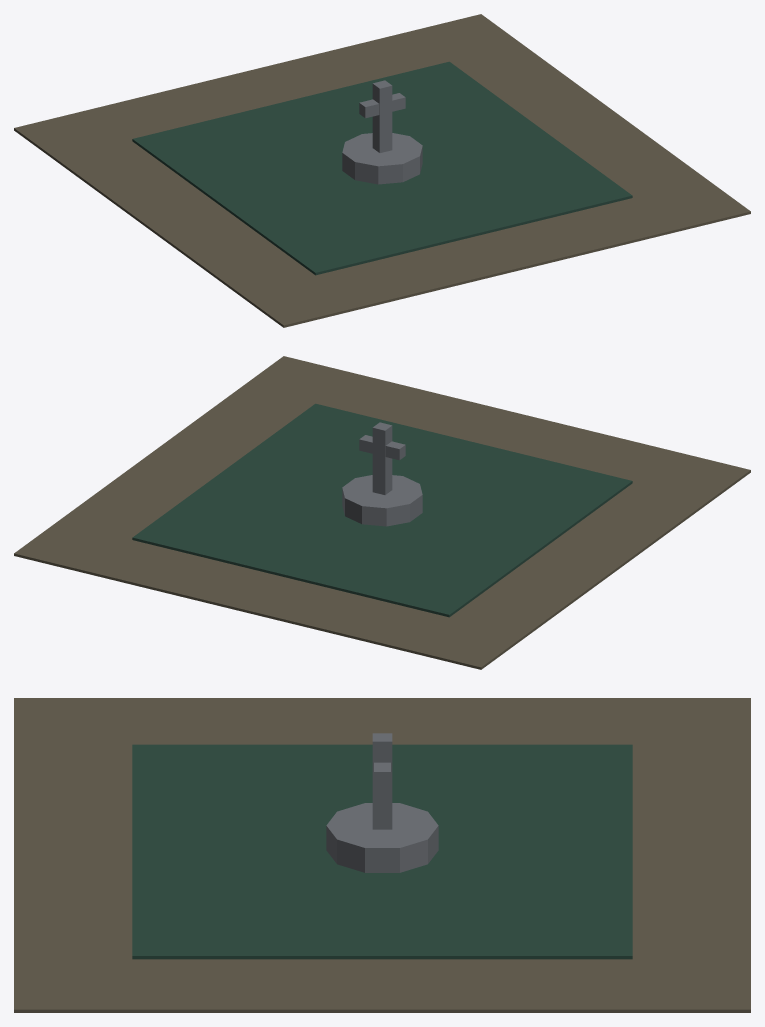
File: CourtyardCloisterGarth.fbx
3 renders of one model, top to bottom at view 1: azimuth 30°, elevation 25°; view 2: azimuth 150°, elevation 25°; view 3: azimuth 270°, elevation 25°, orthographic. The views are drawn at different scales.
Visible parts, largest first — view 1: CourtyardCloisterGarth; view 2: CourtyardCloisterGarth; view 3: CourtyardCloisterGarth.
Boxes of the visible parts, x1,y1,x2,y2 form: CourtyardCloisterGarth: (14,14,750,327); CourtyardCloisterGarth: (14,356,750,669); CourtyardCloisterGarth: (14,698,750,1012).
Size of the model in its own units: 1182 by 212 by 1182.
3 materials, 3 textured.
